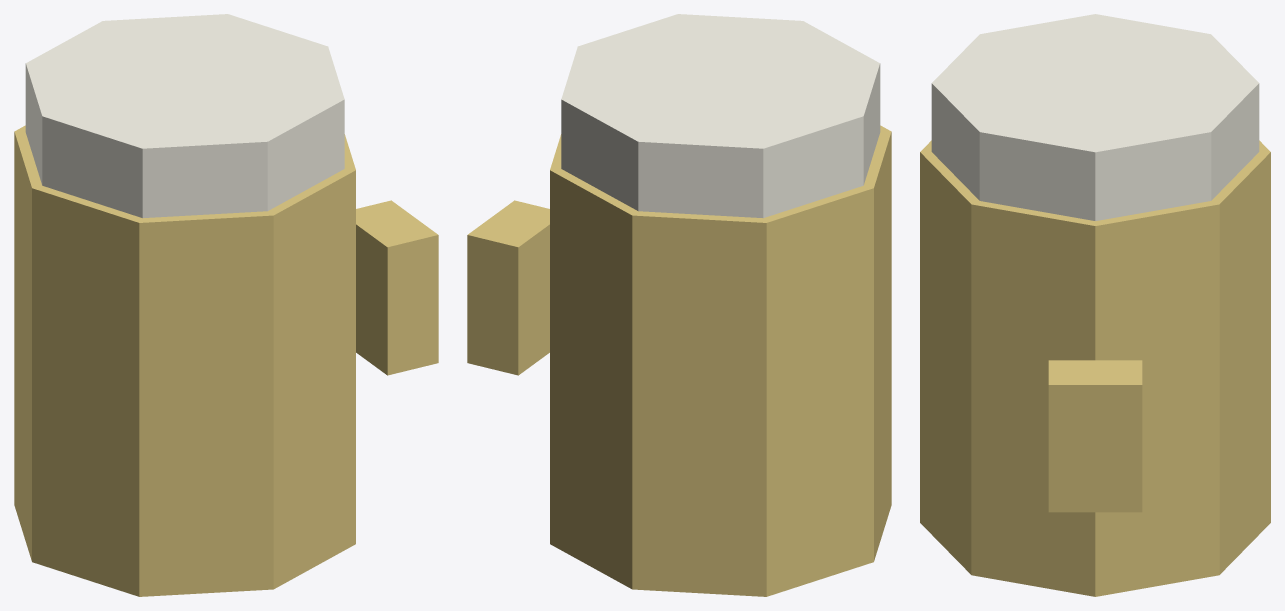
File: beer.glb
3 views of the same model, side by side, from view 1: azimuth 30°, elevation 25°; view 2: azimuth 150°, elevation 25°; view 3: azimuth 270°, elevation 25° (orthographic).
Visible parts, largest first — view 1: mug, foam, handle; view 2: mug, foam, handle; view 3: mug, foam, handle.
Part boxes in pixels (box(x1,y1,x2,y2)): mug: box(14, 125, 355, 596); foam: box(25, 14, 344, 218); handle: box(356, 200, 438, 375); mug: box(550, 125, 891, 596); foam: box(561, 14, 880, 218); handle: box(467, 200, 549, 375); mug: box(920, 140, 1270, 596); foam: box(931, 14, 1259, 220); handle: box(1048, 360, 1142, 512).
Bounding box in the file's own units: 0.0375 × 0.0415 × 0.03.
